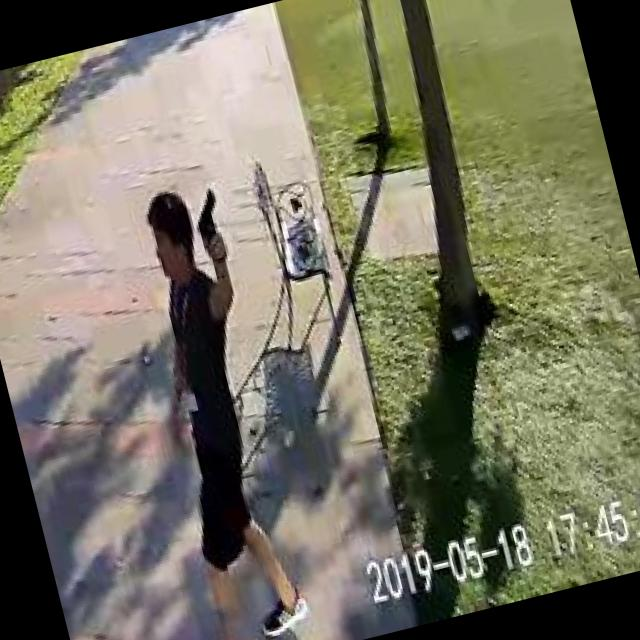Guns: (179, 178, 238, 283)
